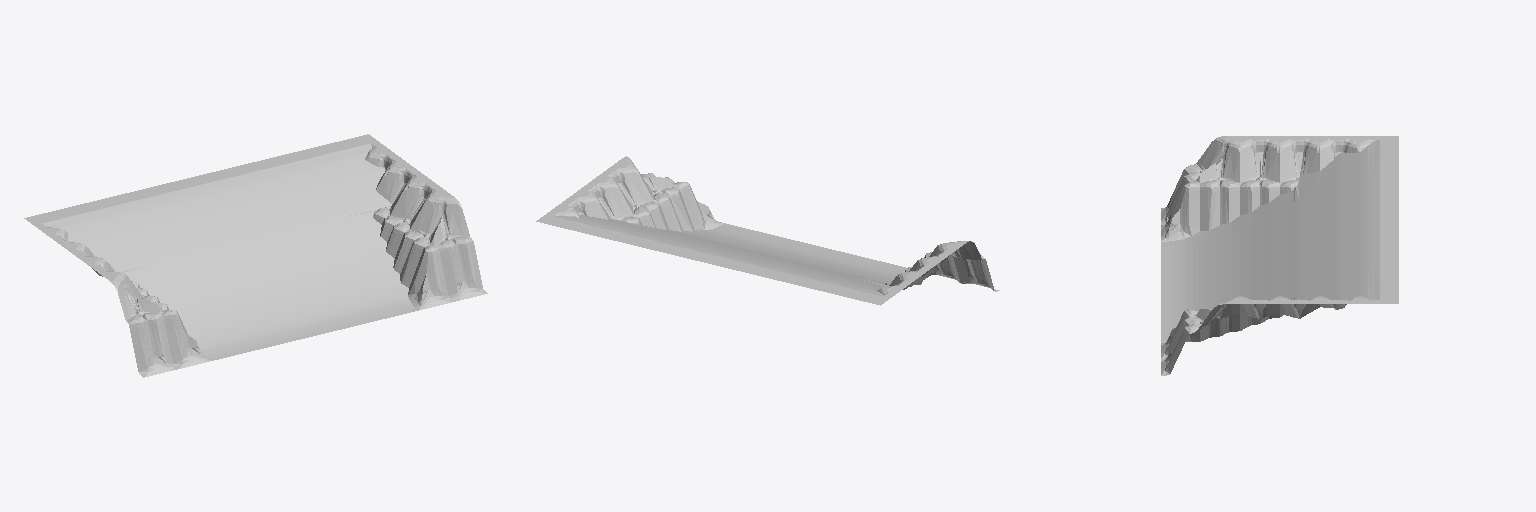
Rendered from LargeRamp.obj.
The picture shows the model from 3 angles: view 1: azimuth 30°, elevation 25°; view 2: azimuth 150°, elevation 25°; view 3: azimuth 270°, elevation 25°; orthographic projection.
Parts seen in each view (by area): view 1: Ramp_Larger_mesh.018; view 2: Ramp_Larger_mesh.018; view 3: Ramp_Larger_mesh.018.
Part boxes in pixels (bbox=[...]): Ramp_Larger_mesh.018: bbox=[24, 134, 487, 377]; Ramp_Larger_mesh.018: bbox=[536, 156, 999, 305]; Ramp_Larger_mesh.018: bbox=[1161, 136, 1398, 375].
Size of the model in its own units: 10 by 2 by 6.